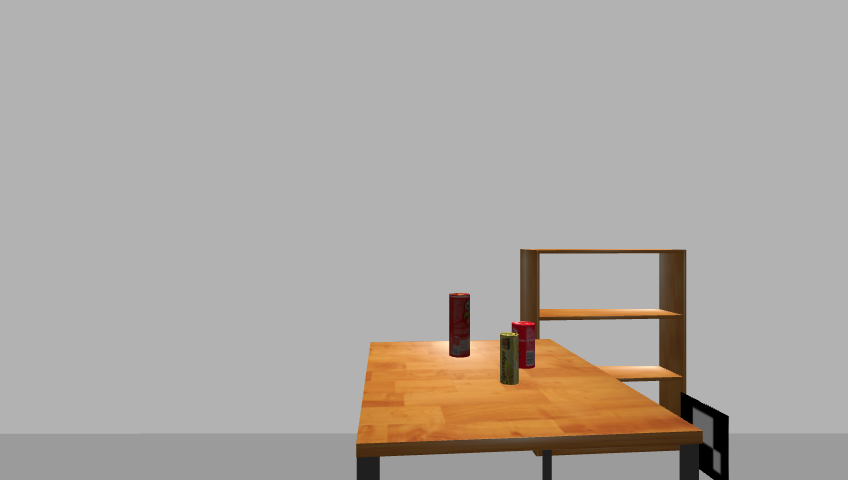aruco marker: (675, 392, 734, 480)
biscuits pack: (499, 333, 519, 385)
bookshelf: (514, 245, 693, 480)
coke can: (514, 320, 538, 369)
dinner table: (350, 337, 705, 480)
pringles can: (447, 292, 473, 359)
